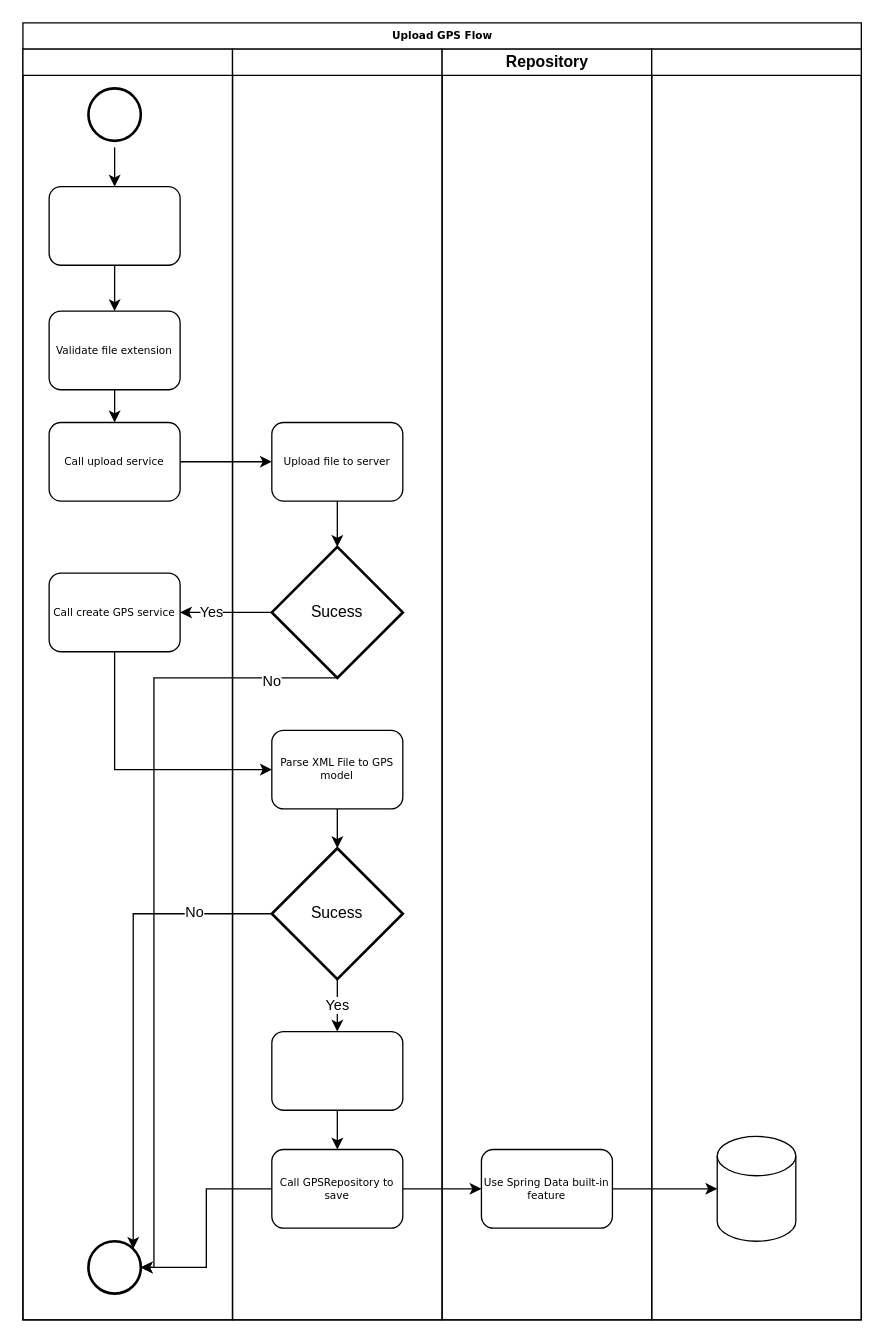
The diagram is 884 pixels wide and 1343 high, and some of its shapes have lost their labels. The shapes that lost their labels are listed below. From the top down, each one's box as (x1, y1, x2, y2) in pixels, then its label:
(48, 185, 180, 265): Validate file exrtension
(22, 48, 233, 1320): Controller
(231, 48, 442, 1320): Service
(650, 48, 861, 1320): Database
(271, 1030, 403, 1110): Do some checking
(716, 1135, 796, 1241): H2
